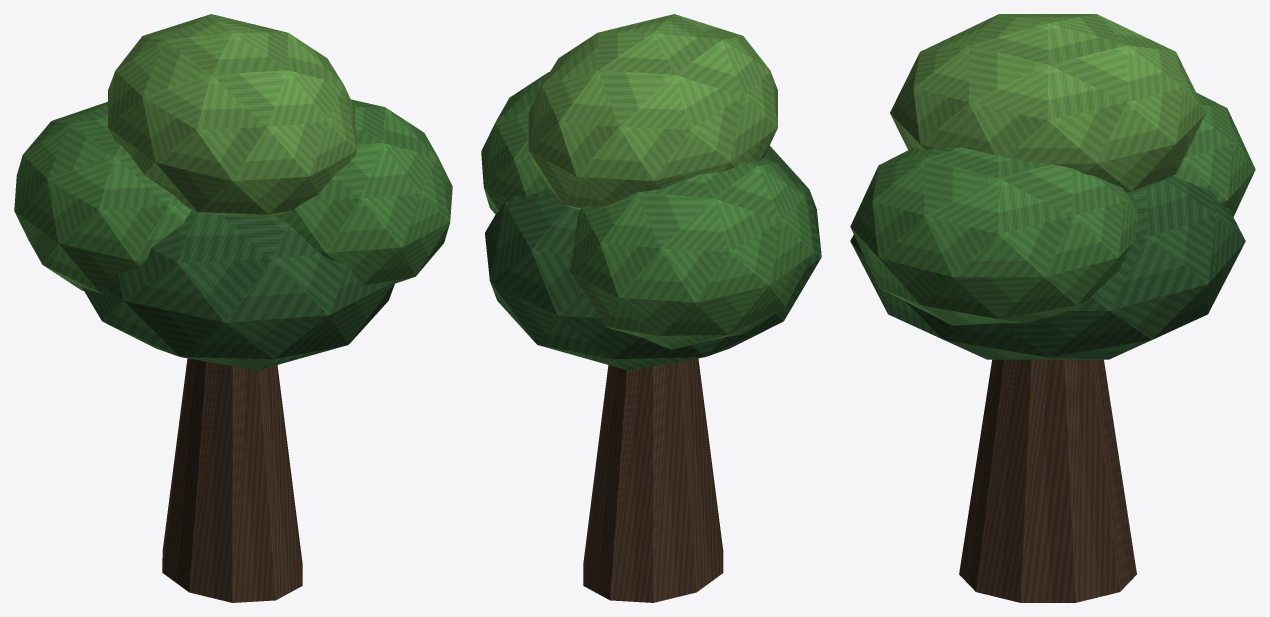
The model's file is tree_a.glb.
The picture shows the model from 3 angles, left to right: view 1: azimuth 30°, elevation 25°; view 2: azimuth 150°, elevation 25°; view 3: azimuth 270°, elevation 25°; orthographic projection. The views are drawn at different scales.
Visible parts, largest first — view 1: Cone; view 2: Cone; view 3: Cone.
Boxes of the visible parts, x1=… form: Cone: x1=14, y1=14, x2=452, y2=602; Cone: x1=481, y1=14, x2=821, y2=602; Cone: x1=850, y1=14, x2=1255, y2=602.
Bounding box in the file's own units: 0.54 × 0.81 × 0.54.
Materials: 1 (1 with a texture image).
